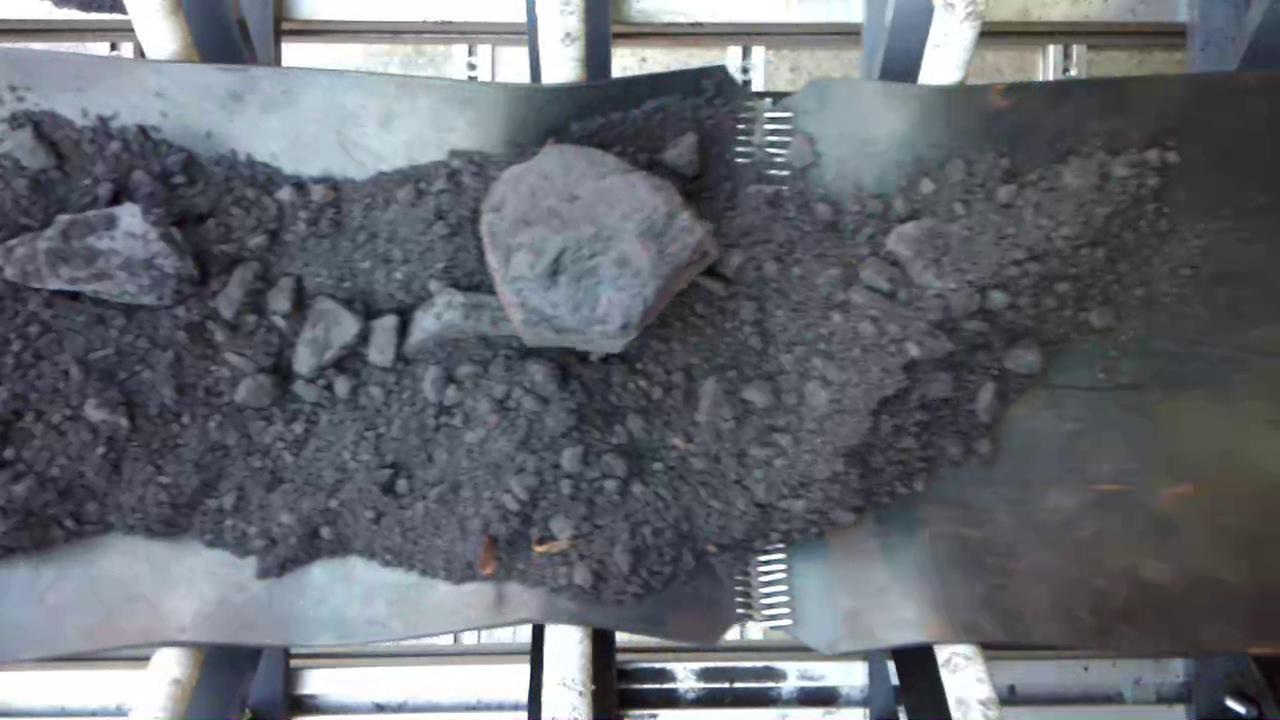conveyor: (1, 83, 1280, 635)
